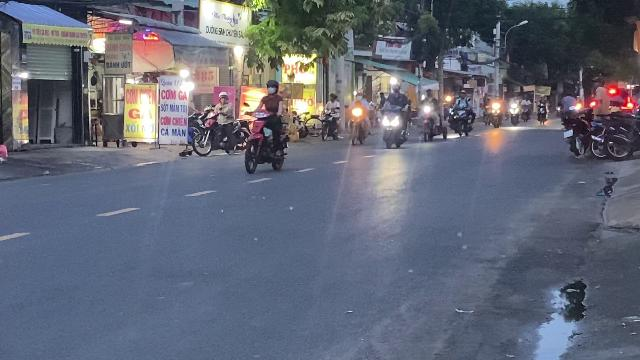helmet: (265, 80, 279, 94)
motorcyclist: (242, 78, 290, 174)
